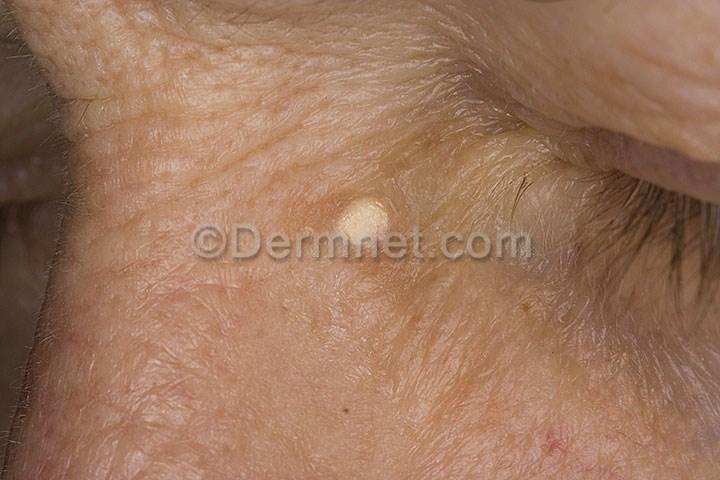Acne: (317, 184, 425, 260)
